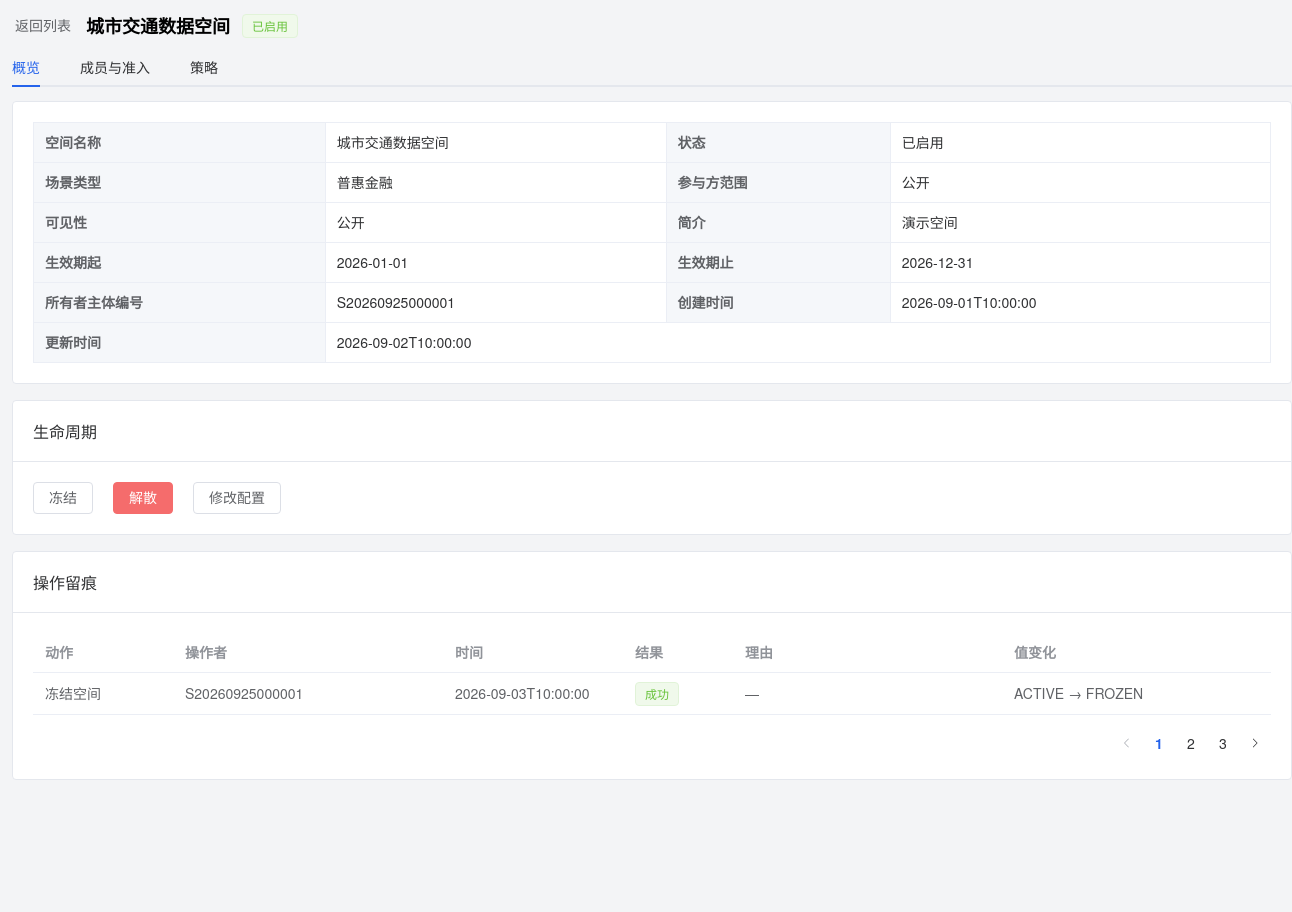
Test case: 空态与分页（R6 / §7 T5、§8.3、§8.7） › 操作留痕分页：翻页按新页码与每页条数重新拉取（T10 分页）
Click the button with class "btn-next".
click(1255, 743)  # box [1239, 727, 1271, 759]
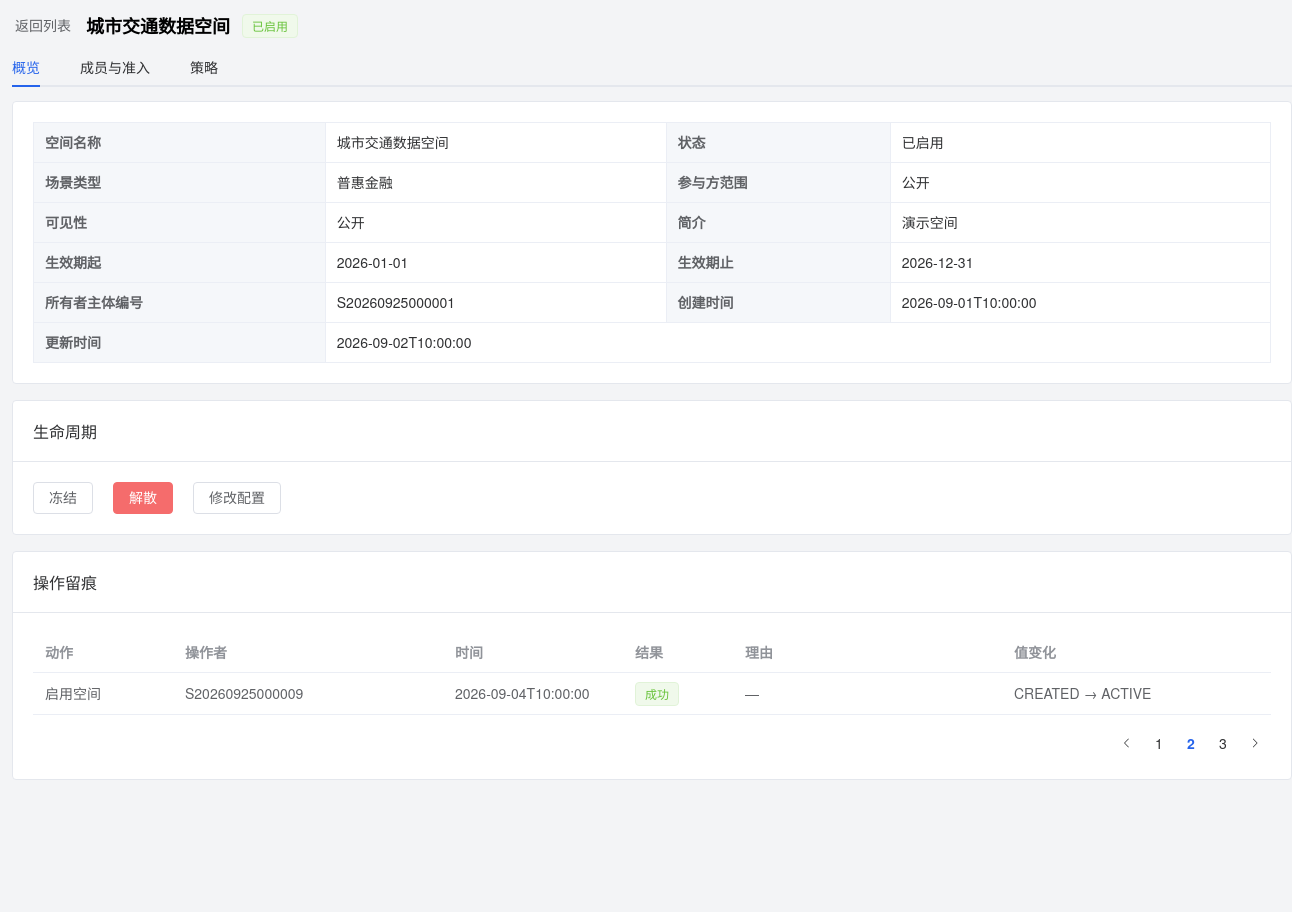
Now the text "S20260925000009" is shown, box [185, 683, 303, 703]
